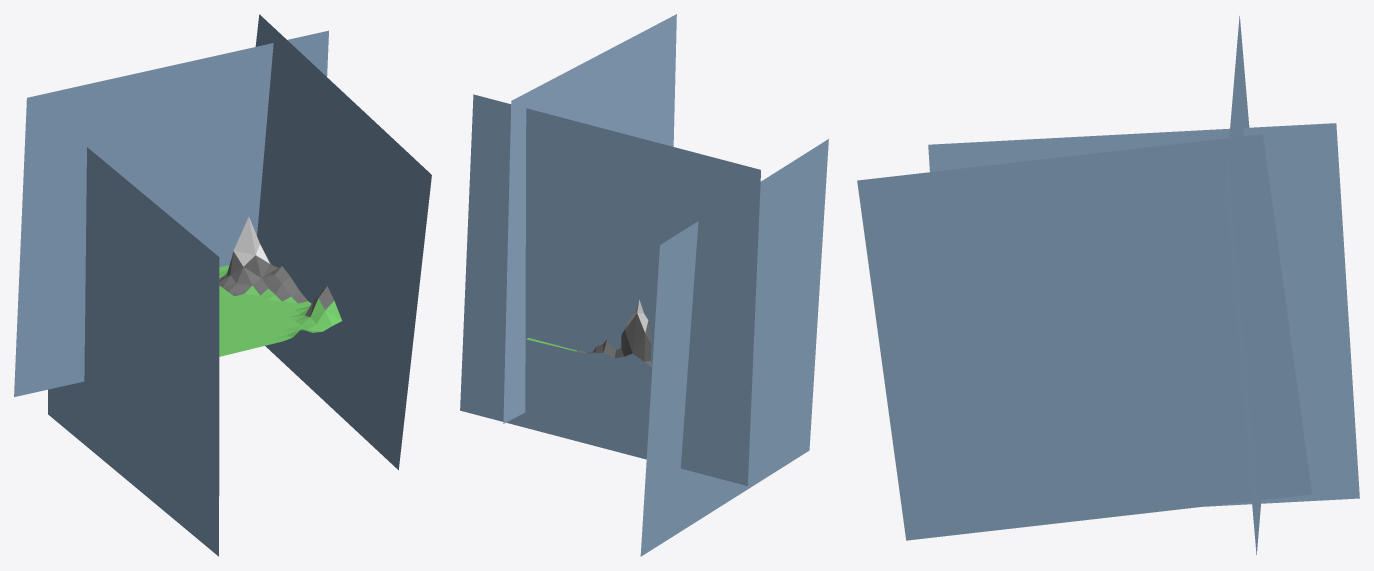
The model's file is mountain_landscape_with_background.dae.
The picture shows the model from 3 angles, left to right: view 1: azimuth 30°, elevation 25°; view 2: azimuth 150°, elevation 25°; view 3: azimuth 270°, elevation 25°; orthographic projection. The views are drawn at different scales.
Visible parts, largest first — view 1: sky_back, Plane; view 2: sky_back, Plane; view 3: sky_back.
Part boxes in pixels (x1,y1,x2,y2): sky_back: (14,14,431,556); Plane: (219,217,341,356); sky_back: (460,14,828,556); Plane: (526,300,652,367); sky_back: (857,16,1359,554).
Bounding box in the file's own units: 29.27 × 35.98 × 38.33.
